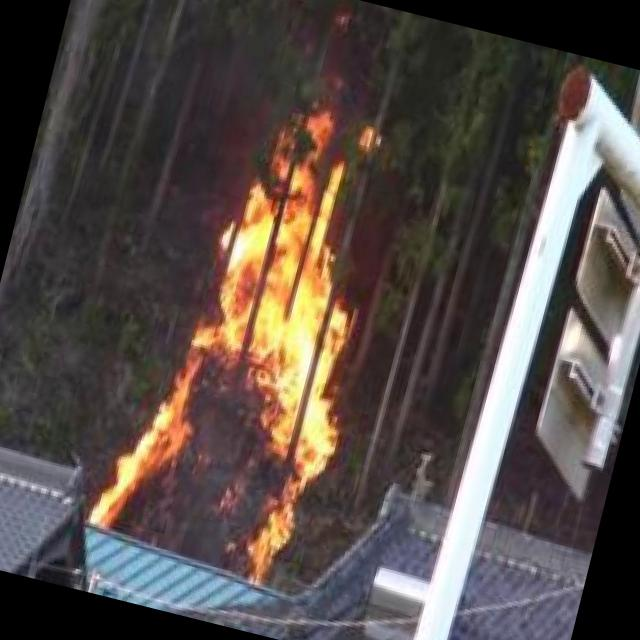Fire: (92, 85, 412, 598)
